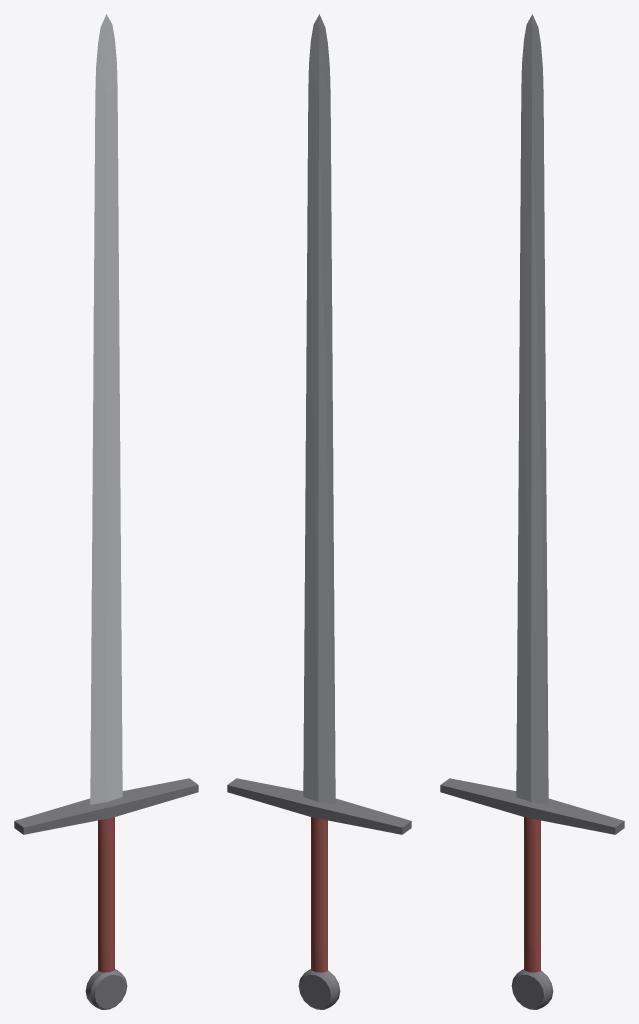
File: asset.glb
3 views of the same model, side by side, from view 1: azimuth 30°, elevation 25°; view 2: azimuth 150°, elevation 25°; view 3: azimuth 330°, elevation 25° (orthographic).
Visible parts, largest first — view 1: blade, guard, grip, pommel; view 2: blade, guard, grip, pommel; view 3: blade, guard, grip, pommel.
Boxes of the visible parts, x1,y1,x2,y2 form: blade: (90, 14, 122, 804); guard: (14, 778, 198, 834); grip: (98, 817, 114, 972); pommel: (85, 969, 127, 1009); blade: (303, 14, 335, 804); guard: (227, 778, 411, 834); grip: (311, 817, 327, 972); pommel: (298, 969, 340, 1009); blade: (516, 14, 548, 804); guard: (440, 778, 624, 834); grip: (524, 817, 540, 972); pommel: (511, 969, 553, 1009).
Size of the model in its own units: 0.2473 by 1.34 by 0.0351.
